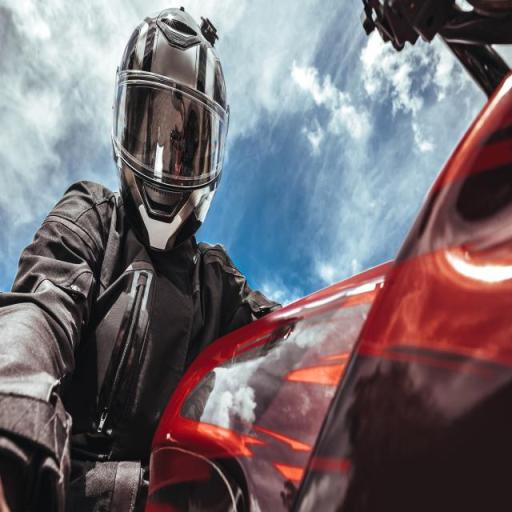Helmet: (86, 9, 232, 253)
